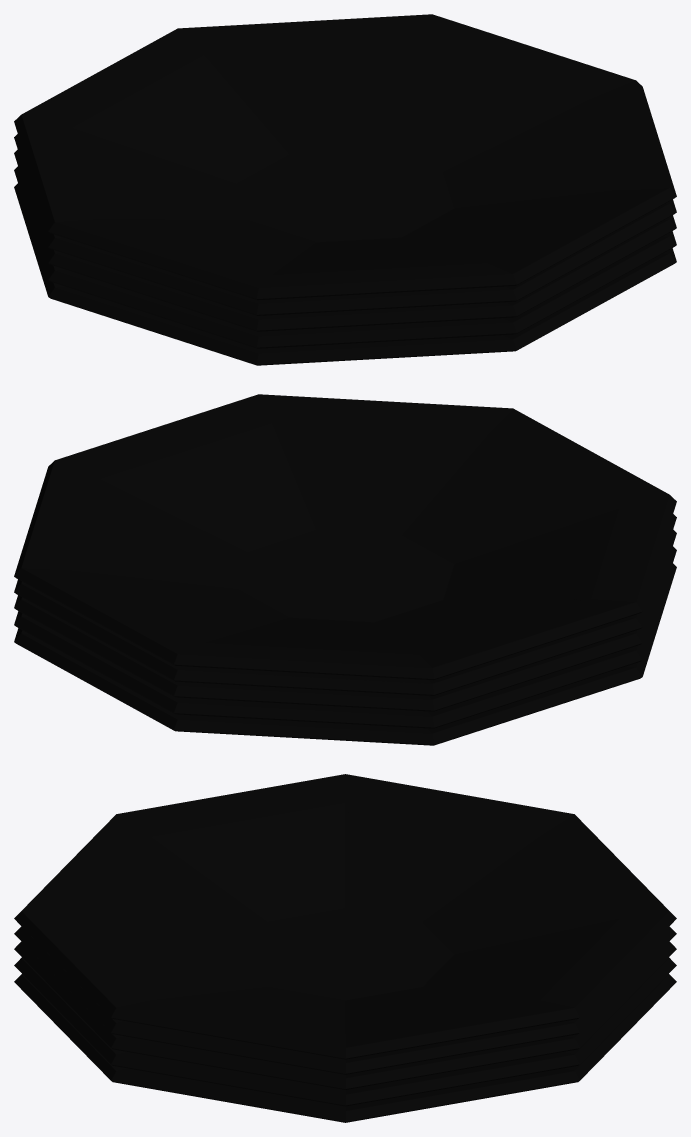
Rendered from stacktallrikar.glb.
3 views of the same model, one above another, from view 1: azimuth 30°, elevation 25°; view 2: azimuth 150°, elevation 25°; view 3: azimuth 270°, elevation 25° (orthographic). The views are drawn at different scales.
Parts seen in each view (by area): view 1: node_id53, node_id17, node_id59, node_id14, node_id11, node_id8, node_id5, node_id50, node_id56, node_id41, node_id71, node_id29 (+6 smaller); view 2: node_id17, node_id53, node_id50, node_id5, node_id14, node_id11, node_id8, node_id59, node_id56, node_id20, node_id26, node_id83 (+8 smaller); view 3: node_id17, node_id53, node_id50, node_id8, node_id14, node_id56, node_id11, node_id59, node_id5, node_id47, node_id23, node_id86 (+6 smaller).
Part boxes in pixels (x1=…): node_id53: x1=14, y1=14, x2=635, y2=219; node_id17: x1=31, y1=14, x2=676, y2=300; node_id59: x1=290, y1=81, x2=657, y2=246; node_id14: x1=14, y1=134, x2=676, y2=315; node_id11: x1=14, y1=149, x2=676, y2=331; node_id8: x1=14, y1=166, x2=676, y2=348; node_id5: x1=14, y1=183, x2=676, y2=365; node_id50: x1=390, y1=128, x2=676, y2=292; node_id56: x1=46, y1=208, x2=394, y2=295; node_id41: x1=277, y1=297, x2=595, y2=363; node_id71: x1=32, y1=188, x2=662, y2=315; node_id29: x1=327, y1=250, x2=649, y2=344; node_id17: x1=14, y1=394, x2=674, y2=679; node_id53: x1=14, y1=460, x2=613, y2=680; node_id50: x1=146, y1=394, x2=584, y2=488; node_id5: x1=15, y1=564, x2=676, y2=745; node_id14: x1=14, y1=569, x2=659, y2=695; node_id11: x1=21, y1=529, x2=676, y2=711; node_id8: x1=21, y1=546, x2=676, y2=728; node_id59: x1=58, y1=431, x2=571, y2=599; node_id56: x1=508, y1=468, x2=663, y2=620; node_id20: x1=14, y1=611, x2=303, y2=721; node_id26: x1=304, y1=550, x2=676, y2=728; node_id83: x1=309, y1=629, x2=642, y2=711; node_id17: x1=59, y1=774, x2=630, y2=1059; node_id53: x1=346, y1=780, x2=676, y2=1058; node_id50: x1=14, y1=864, x2=243, y2=1041; node_id8: x1=14, y1=957, x2=676, y2=1106; node_id14: x1=14, y1=926, x2=676, y2=1074; node_id56: x1=118, y1=774, x2=374, y2=882; node_id11: x1=14, y1=941, x2=676, y2=1089; node_id59: x1=147, y1=826, x2=344, y2=1059; node_id5: x1=21, y1=974, x2=676, y2=1122; node_id47: x1=62, y1=1022, x2=446, y2=1122; node_id23: x1=129, y1=1057, x2=465, y2=1105; node_id86: x1=246, y1=993, x2=626, y2=1089.
Bounding box in the file's own units: 0.512 × 0.1028 × 0.512.
30 materials, 30 textured.
